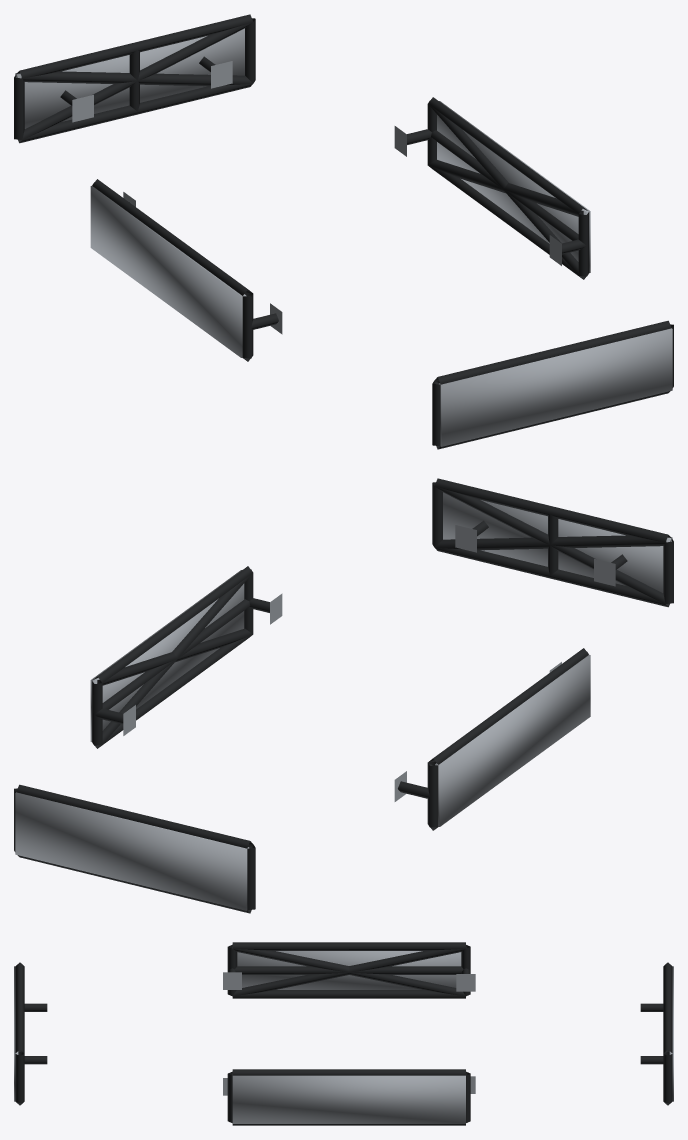
File: ottavo_miudo_protecao.glb
3 renders of one model, top to bottom at view 1: azimuth 30°, elevation 25°; view 2: azimuth 150°, elevation 25°; view 3: azimuth 270°, elevation 25°, orthographic. The views are drawn at different scales.
Parts seen in each view (by area): view 1: Protection_front_Level3_Details, Protection_left_Level3_Details, Protection_rear_Level1_Details, Protection_rear_Level3_Details, Protection_right_Level1_Details, Protection_rear_Level2_Details, Protection_right_Level2_Details, Protection_right_Level3_Details, Protection_front_Level1_Details, Protection_left_Level1_Details; view 2: Protection_rear_Level3_Details, Protection_left_Level3_Details, Protection_front_Level1_Details, Protection_front_Level3_Details, Protection_right_Level1_Details, Protection_front_Level2_Details, Protection_right_Level2_Details, Protection_right_Level3_Details, Protection_rear_Level1_Details, Protection_left_Level1_Details; view 3: Protection_right_Level3_Details, Protection_left_Level2_Details, Protection_left_Level1_Details, Protection_left_Level3_Details, Protection_right_Level1_Details, Protection_rear_Level1_Details, Protection_front_Level1_Details.
Boxes of the visible parts, x1,y1,x2,y2 form: Protection_front_Level3_Details: (438, 328, 672, 446); Protection_left_Level3_Details: (90, 186, 246, 357); Protection_rear_Level1_Details: (14, 14, 255, 143); Protection_rear_Level3_Details: (15, 28, 244, 128); Protection_right_Level1_Details: (394, 97, 589, 279); Protection_rear_Level2_Details: (16, 22, 252, 141); Protection_right_Level2_Details: (428, 104, 587, 279); Protection_right_Level3_Details: (437, 101, 590, 272); Protection_front_Level1_Details: (432, 320, 673, 449); Protection_left_Level1_Details: (92, 179, 282, 361); Protection_rear_Level3_Details: (15, 792, 249, 910); Protection_left_Level3_Details: (435, 654, 590, 826); Protection_front_Level1_Details: (432, 478, 673, 607); Protection_front_Level3_Details: (443, 492, 672, 592); Protection_right_Level1_Details: (92, 566, 282, 748); Protection_front_Level2_Details: (435, 486, 671, 605); Protection_right_Level2_Details: (92, 573, 252, 747); Protection_right_Level3_Details: (90, 570, 244, 741); Protection_rear_Level1_Details: (14, 784, 255, 913); Protection_left_Level1_Details: (394, 648, 588, 830); Protection_right_Level3_Details: (232, 1075, 465, 1123); Protection_left_Level2_Details: (232, 945, 466, 996); Protection_left_Level1_Details: (223, 942, 475, 998); Protection_left_Level3_Details: (237, 951, 461, 989); Protection_right_Level1_Details: (223, 1069, 475, 1125); Protection_rear_Level1_Details: (640, 962, 672, 1105); Protection_front_Level1_Details: (15, 962, 47, 1105).
Bounding box in the file's own units: 1.78 × 0.354 × 3.76.
1 material, 1 textured.
